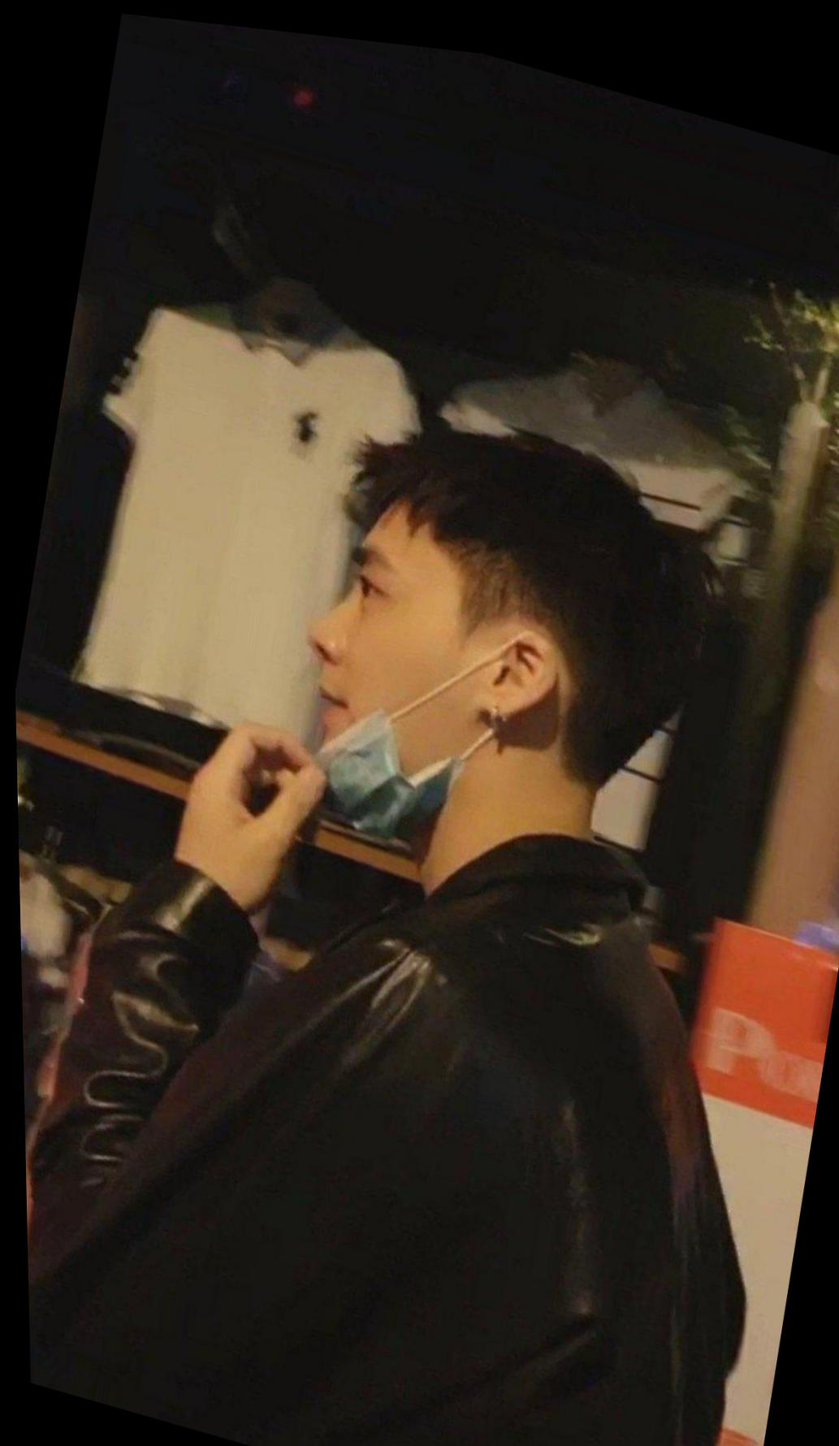WRONG: (279, 502, 480, 837)
